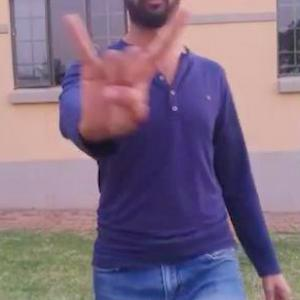takeoff-hand: (61, 0, 194, 148)
